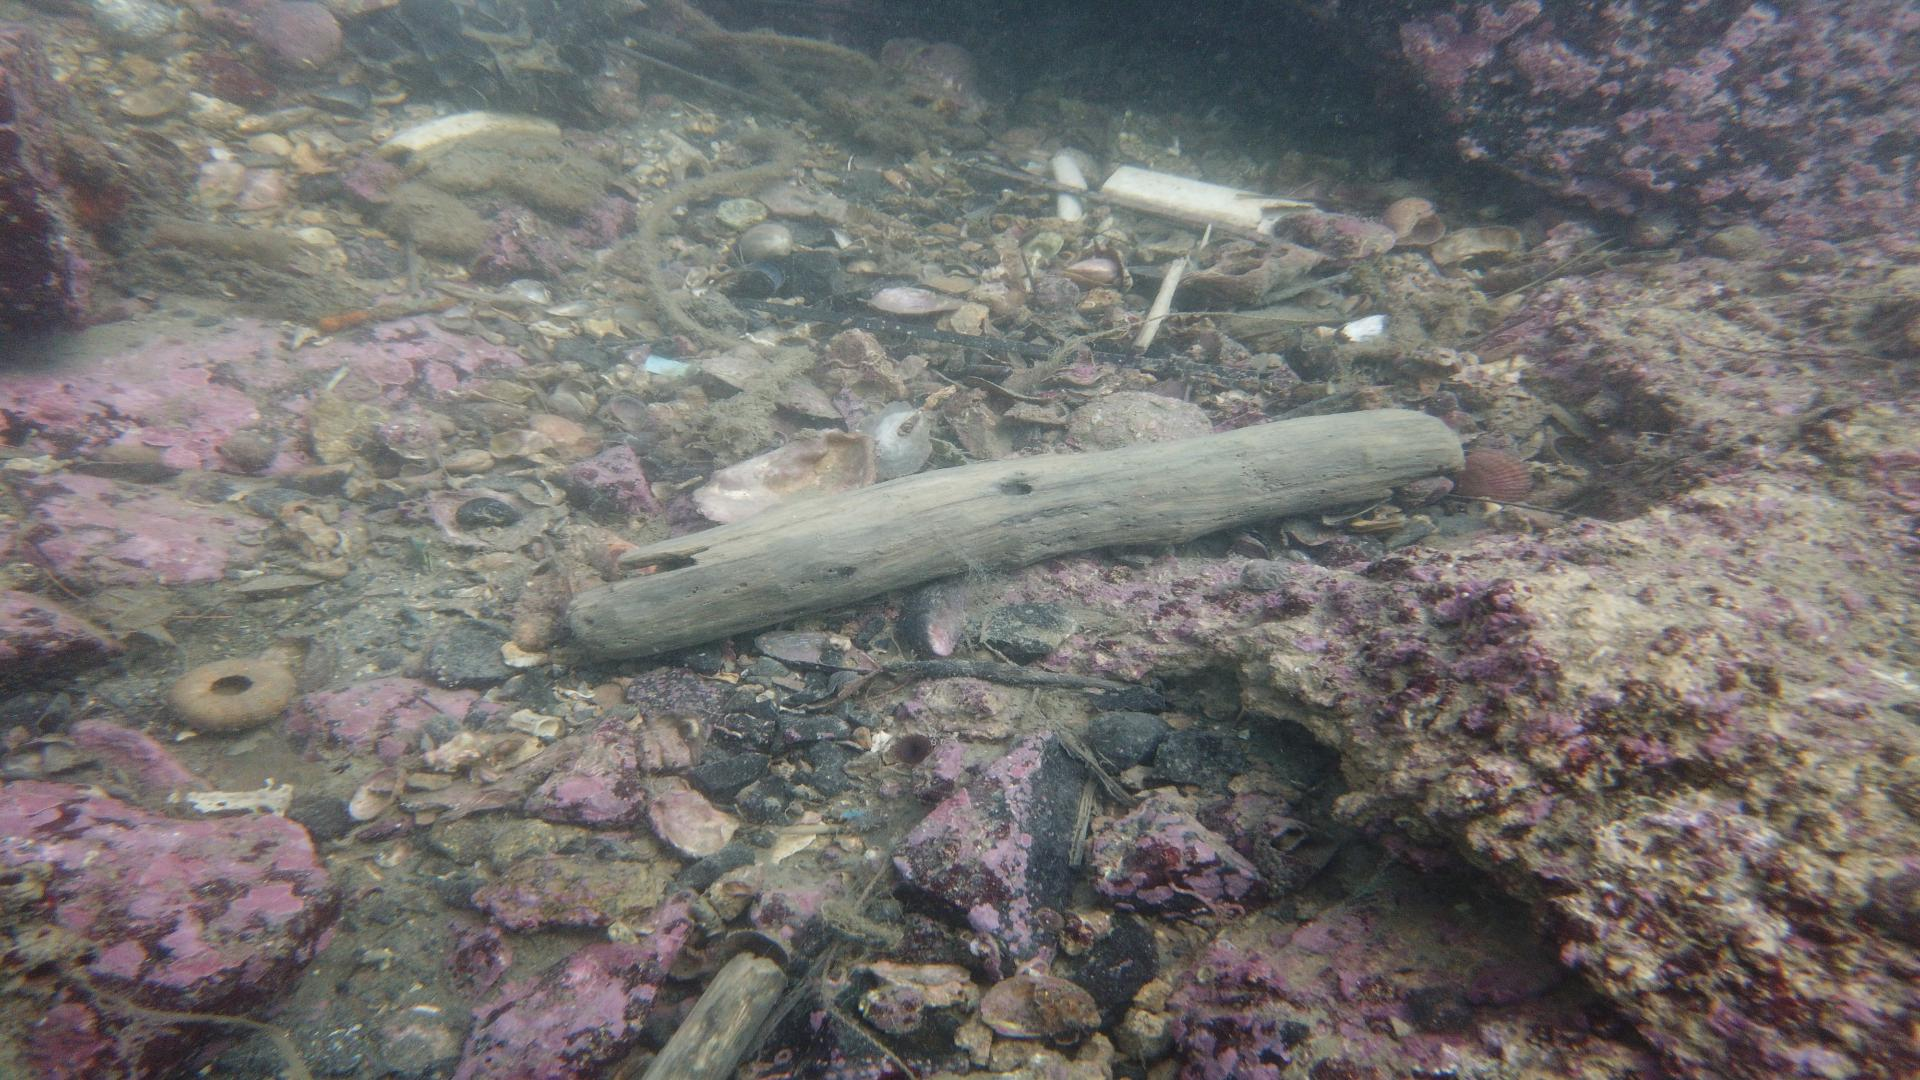rope: (636, 127, 818, 396)
wood: (568, 404, 1466, 658), (636, 952, 785, 1080)
